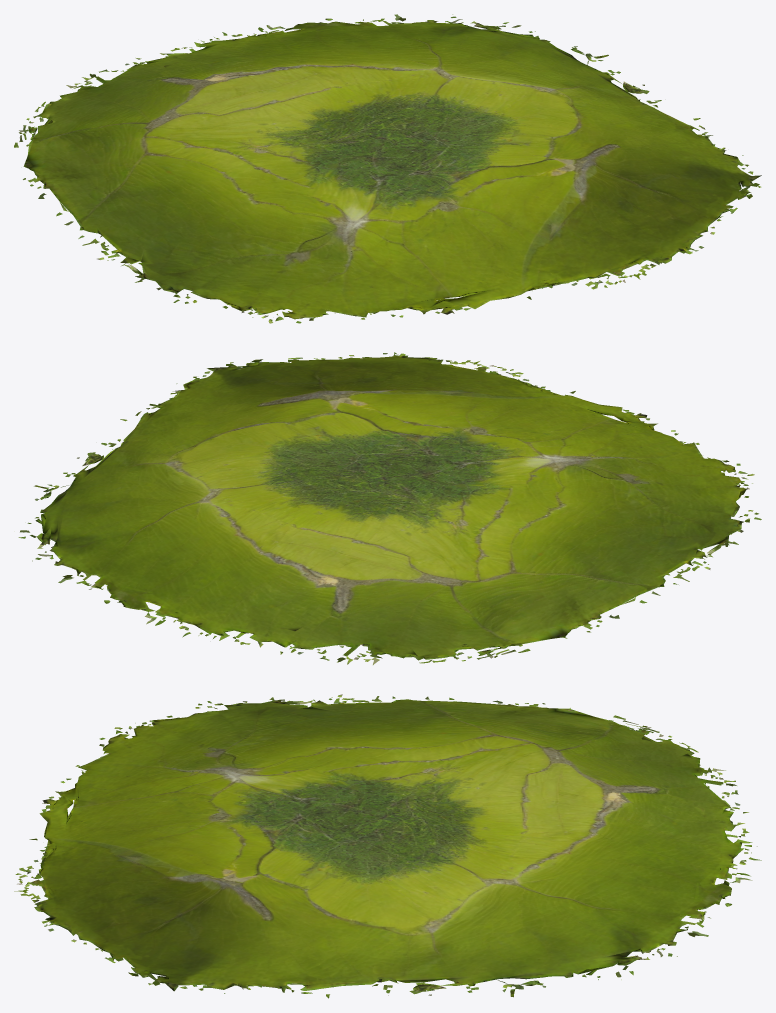
The model's file is 중국_신화속_거대_0728101951_texture.fbx.
3 views of the same model, one above another, from view 1: azimuth 30°, elevation 25°; view 2: azimuth 150°, elevation 25°; view 3: azimuth 270°, elevation 25° (orthographic). The views are drawn at different scales.
Parts seen in each view (by area): view 1: Mesh1; view 2: Mesh1; view 3: Mesh1.
Part boxes in pixels (x1,y1,x2,y2): Mesh1: (14,14,761,323); Mesh1: (18,352,761,664); Mesh1: (14,694,761,998).
Size of the model in its own units: 186 by 10.12 by 193.
1 material, 1 textured.
